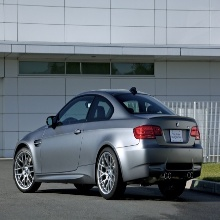no damage: (12, 87, 204, 199)
